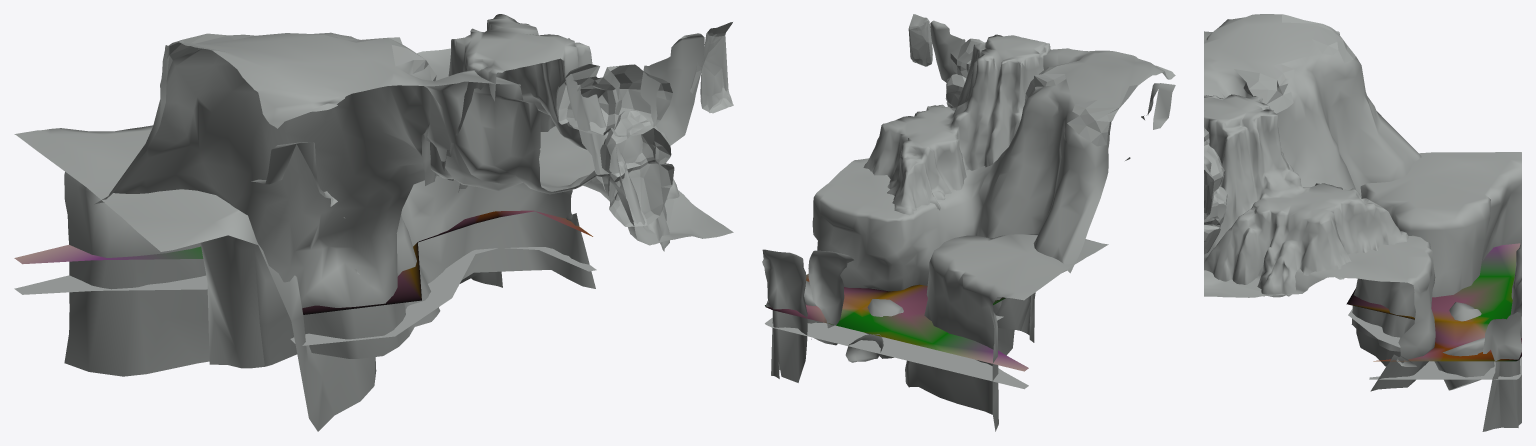
The picture shows the model from 3 angles, left to right: view 1: azimuth 30°, elevation 25°; view 2: azimuth 150°, elevation 25°; view 3: azimuth 270°, elevation 25°; orthographic projection. The views are drawn at different scales.
Visible parts, largest first — view 1: G:\FFXIV-MapTools\exports\w1f4\bg\ffxiv\wil_w1\fld\w1f4\bgpl (×11); view 2: G:\FFXIV-MapTools\exports\w1f4\bg\ffxiv\wil_w1\fld\w1f4\bgpl (×11); view 3: G:\FFXIV-MapTools\exports\w1f4\bg\ffxiv\wil_w1\fld\w1f4\bgpl (×14).
Boxes of the visible parts, x1,y1,x2,y2 form: G:\FFXIV-MapTools\exports\w1f4\bg\ffxiv\wil_w1\fld\w1f4\bgpl (×11): [14, 14, 733, 431]; G:\FFXIV-MapTools\exports\w1f4\bg\ffxiv\wil_w1\fld\w1f4\bgpl (×11): [762, 14, 1175, 431]; G:\FFXIV-MapTools\exports\w1f4\bg\ffxiv\wil_w1\fld\w1f4\bgpl (×14): [1204, 14, 1521, 431].
Size of the model in its own units: 128 by 126 by 128.
